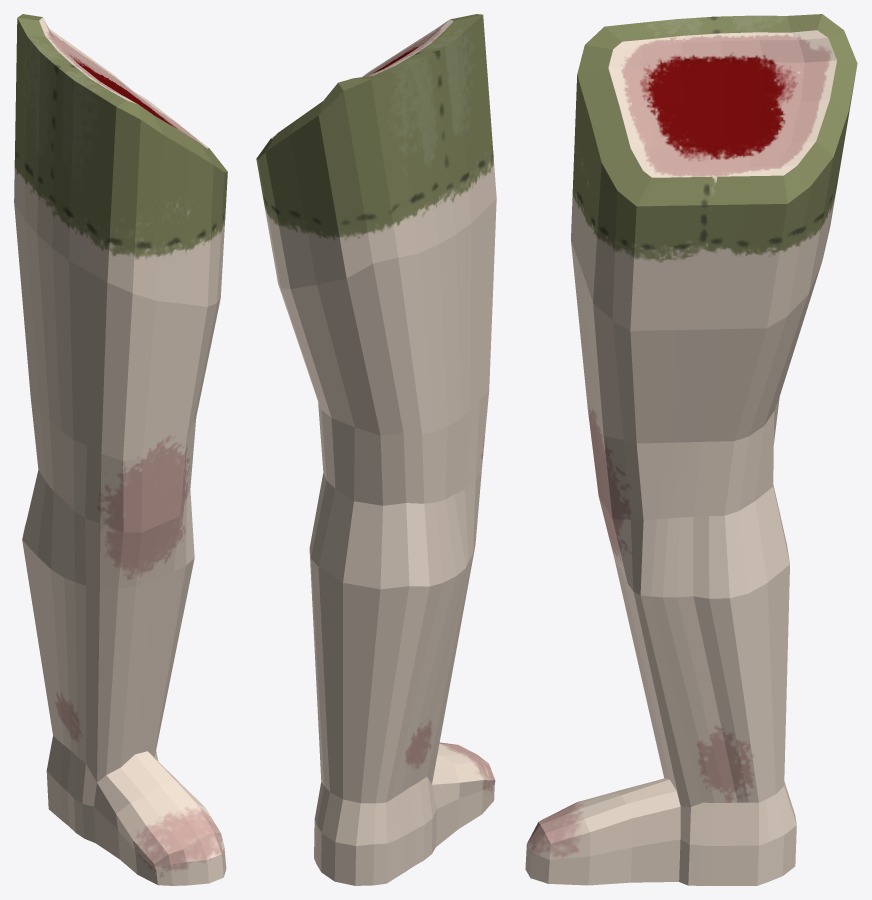
File: lemoikjalk.fbx
3 views of the same model, side by side, from view 1: azimuth 30°, elevation 25°; view 2: azimuth 150°, elevation 25°; view 3: azimuth 270°, elevation 25° (orthographic). The views are drawn at different scales.
Parts seen in each view (by area): view 1: legs.002; view 2: legs.002; view 3: legs.002.
Boxes of the visible parts, box(x1,y1,x2,y2) form: legs.002: box(14, 14, 227, 885); legs.002: box(256, 14, 496, 885); legs.002: box(525, 14, 857, 885).
Bounding box in the file's own units: 31.36 × 155 × 56.51.
